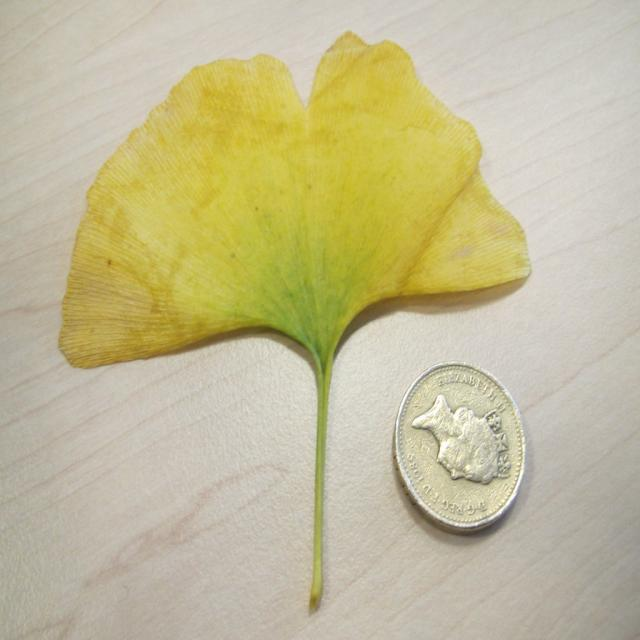Coin: (391, 357, 527, 534)
